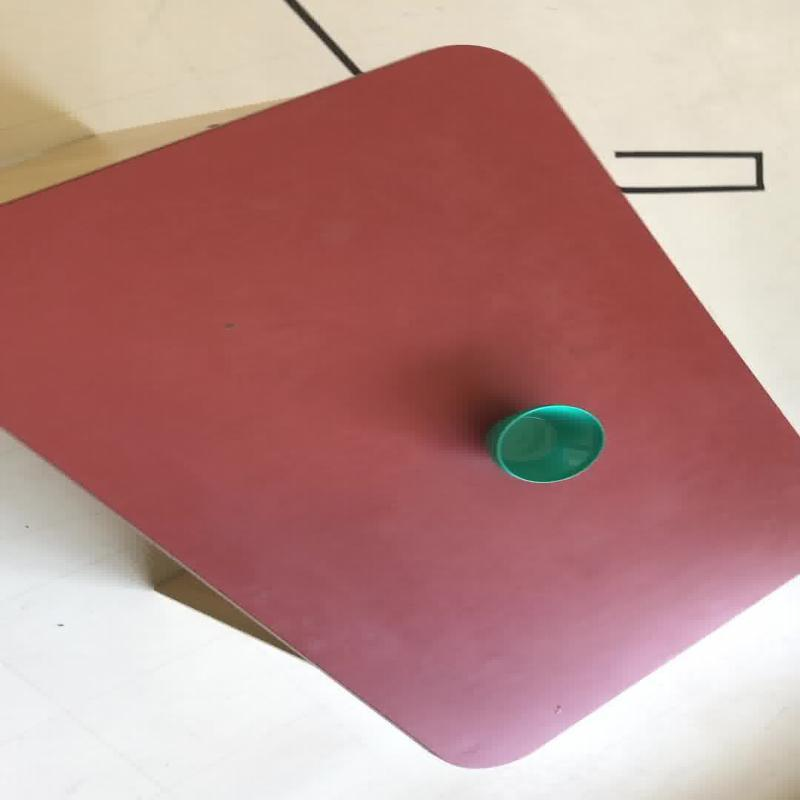bowl: (2, 41, 798, 770), (485, 403, 605, 484)
